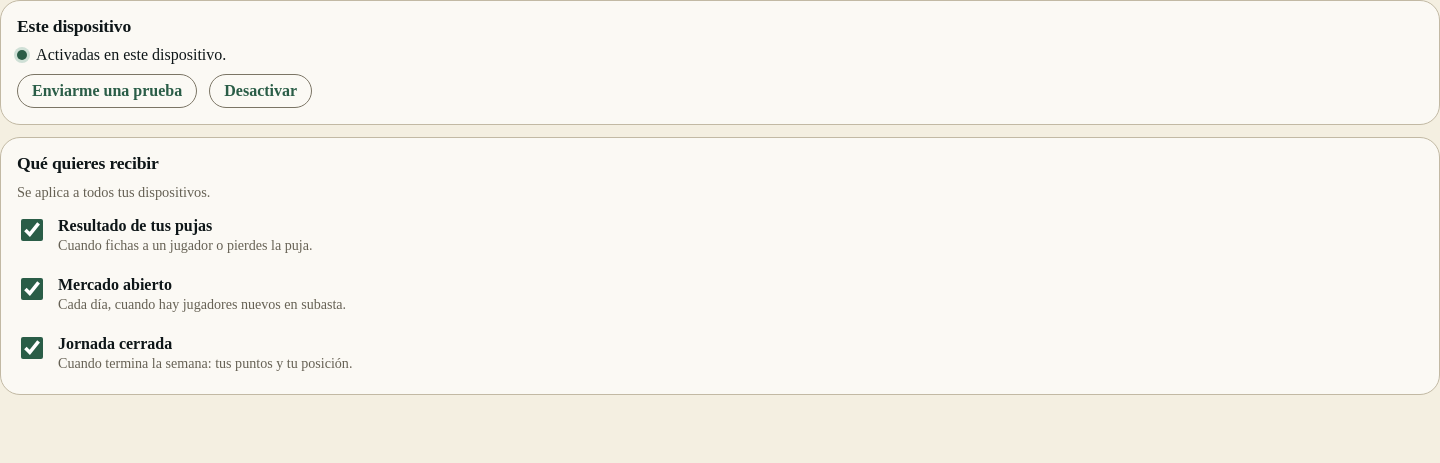
Test case: NotificationSettings › switching off
Click the button "Desactivar": (261, 91) [209, 74, 312, 108]
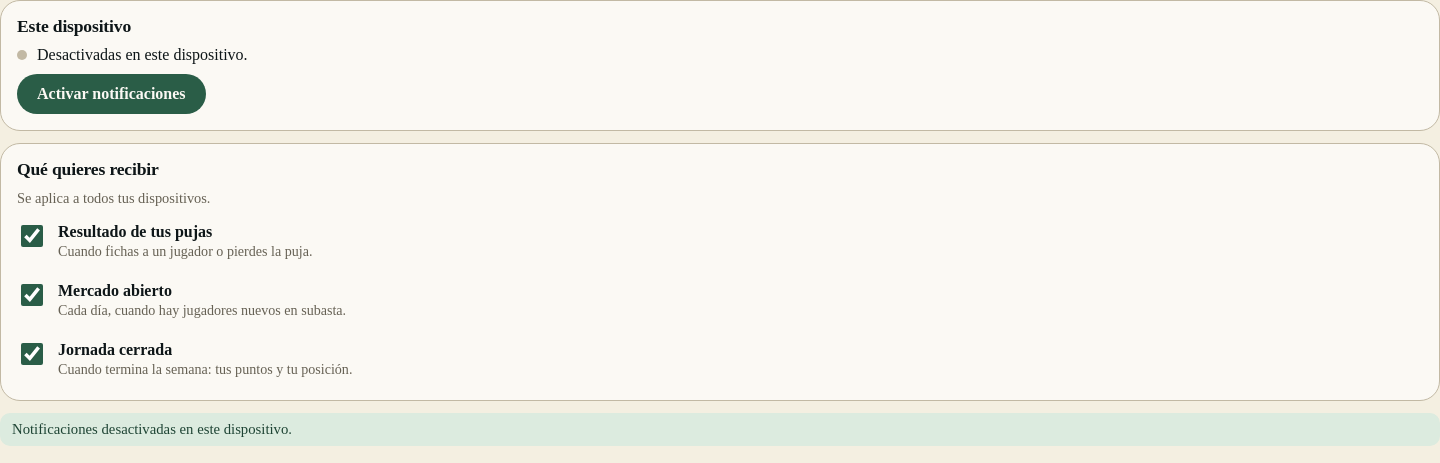
Now the text "Desactivadas en este dispositivo" is shown, box [33, 46, 248, 63]
